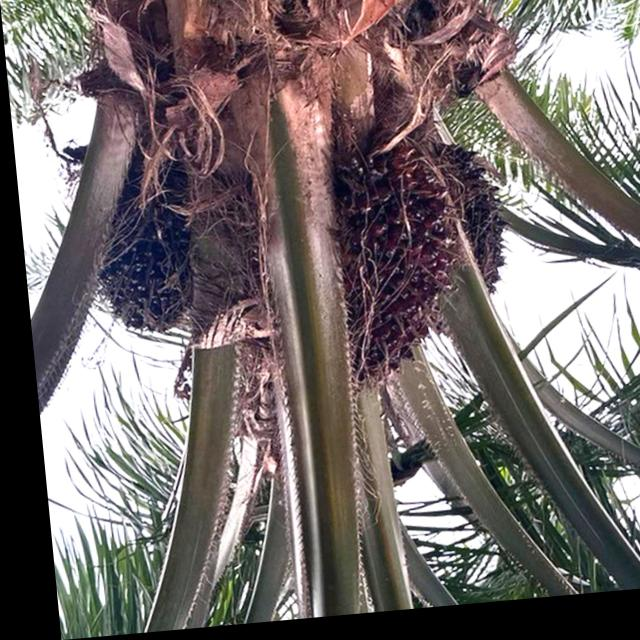ripe: (305, 158, 469, 405), (84, 206, 198, 343)
